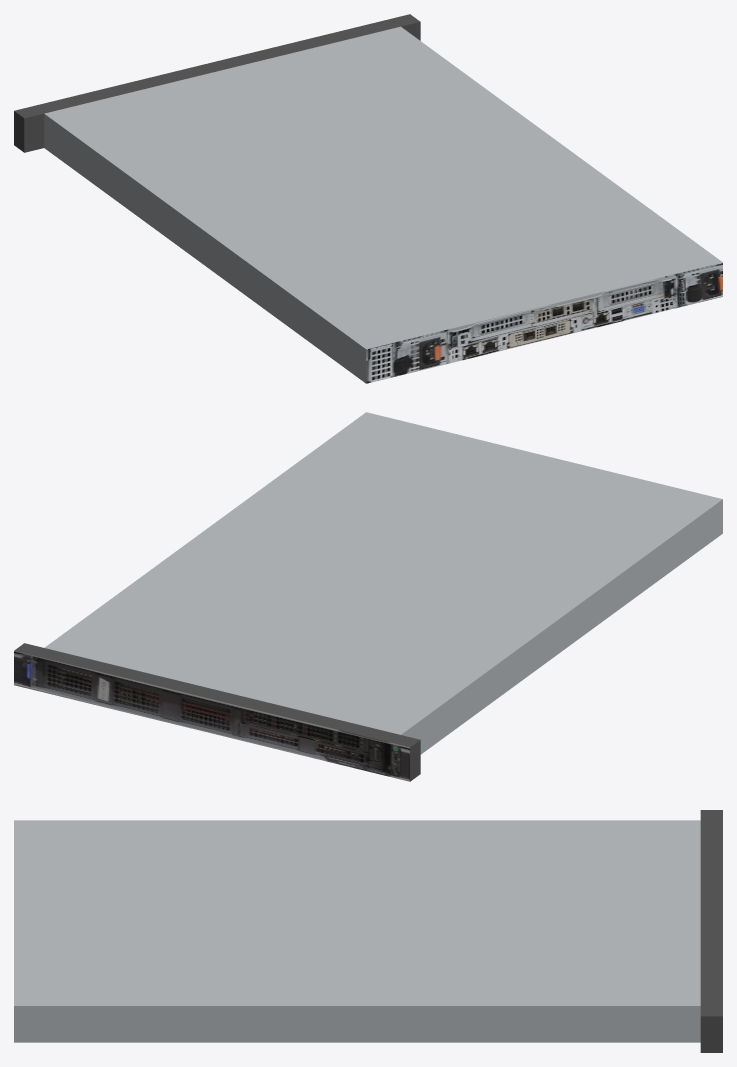
File: c8_login.obj
3 views of the same model, one above another, from view 1: azimuth 30°, elevation 25°; view 2: azimuth 150°, elevation 25°; view 3: azimuth 270°, elevation 25° (orthographic). The views are drawn at different scales.
Parts seen in each view (by area): view 1: Chassis_Cube; view 2: Chassis_Cube; view 3: Chassis_Cube.
Part boxes in pixels (x1,y1,x2,y2): Chassis_Cube: (14, 14, 722, 383); Chassis_Cube: (14, 412, 722, 781); Chassis_Cube: (14, 810, 722, 1052).
Size of the model in its own units: 0.6426 by 0.0533 by 0.9344.
